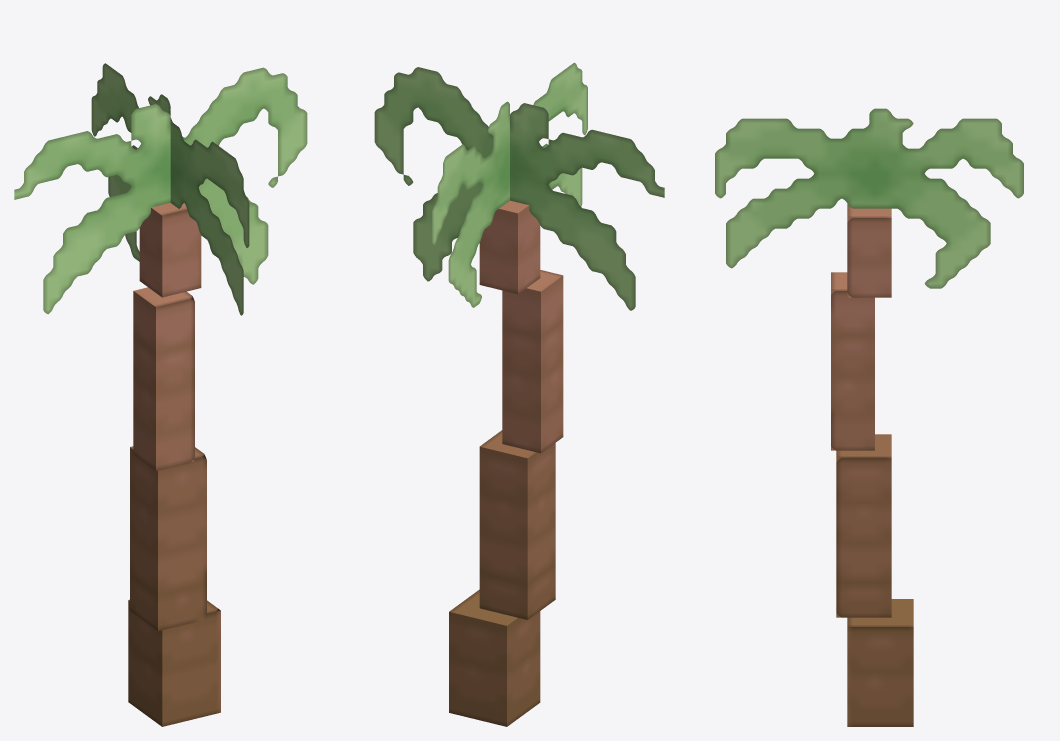
File: PalmTreeStage3.fbx
The picture shows the model from 3 angles, left to right: view 1: azimuth 30°, elevation 25°; view 2: azimuth 150°, elevation 25°; view 3: azimuth 270°, elevation 25°; orthographic projection. The views are drawn at different scales.
Visible parts, largest first — view 1: crown, trunk, trunk_2, crown_1, trunk_1, trunk_3; view 2: crown, trunk, trunk_2, trunk_1, crown_1, trunk_3; view 3: crown_1, trunk, trunk_1, trunk_2, trunk_3.
Boxes of the visible parts, box(x1,y1,x2,y2) form: crown: box(14, 67, 307, 314); trunk: box(130, 446, 206, 631); trunk_2: box(133, 287, 194, 470); crown_1: box(91, 63, 249, 315); trunk_1: box(128, 599, 220, 726); trunk_3: box(139, 203, 201, 297); crown: box(374, 67, 664, 310); trunk: box(479, 430, 555, 619); trunk_2: box(502, 270, 563, 453); trunk_1: box(449, 589, 540, 726); crown_1: box(432, 62, 587, 307); trunk_3: box(479, 200, 540, 294); crown_1: box(715, 108, 1023, 288); trunk: box(836, 434, 891, 617); trunk_1: box(847, 599, 913, 726); trunk_2: box(831, 272, 874, 450); trunk_3: box(847, 204, 891, 297).
Size of the model in its own units: 100 by 194 by 100.
Materials: 1 (1 with a texture image).
